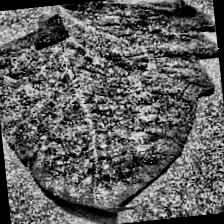spider mites: (0, 0, 224, 223)
